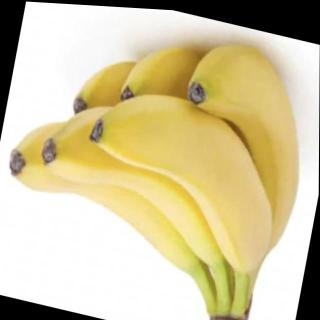banana: (70, 73, 294, 277), (27, 82, 259, 268), (0, 100, 228, 270), (159, 25, 320, 261)
